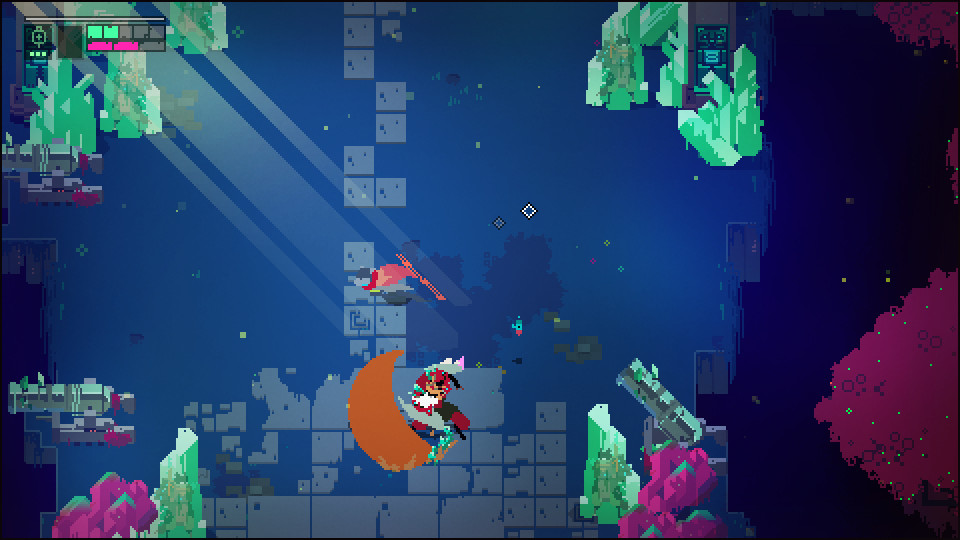hanged_man: (360, 356, 471, 472)
player: (352, 267, 418, 299)
